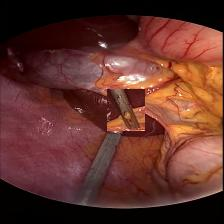Grasper: (108, 88, 145, 129)
